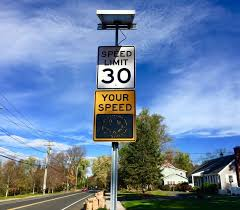speedLimit30: (96, 43, 136, 89)
